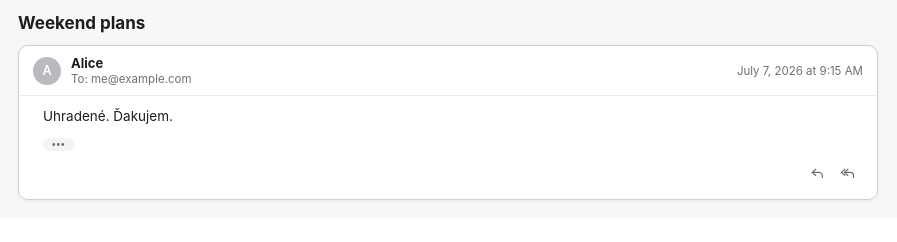
Test case: folds quoted text history behind a toggle
Expected: the text "Uhradené. Ďakujem." is shown, [43, 108, 173, 124]
Expected: the text "pôvodná správa" is not shown
Step 1. Click the button named "Show quoted text" → coordinates (59, 144), box [43, 138, 74, 151]
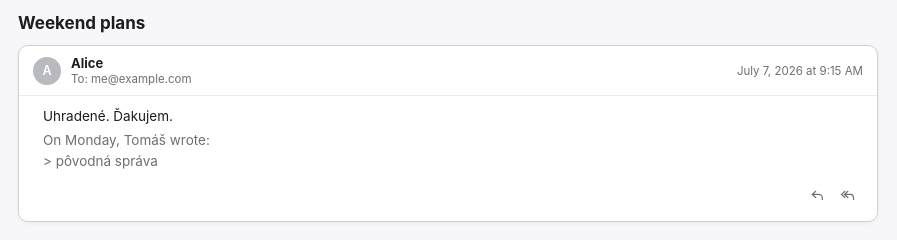
Expected: the text "On Monday, Tomáš wrote: > pôvodná správa" is shown, [43, 132, 210, 169]
